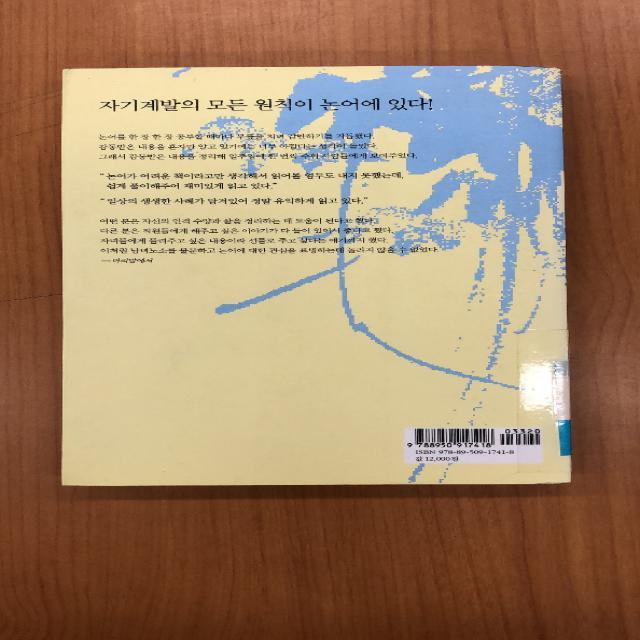Wornout: (507, 63, 563, 79), (526, 475, 576, 488), (59, 63, 84, 82)
